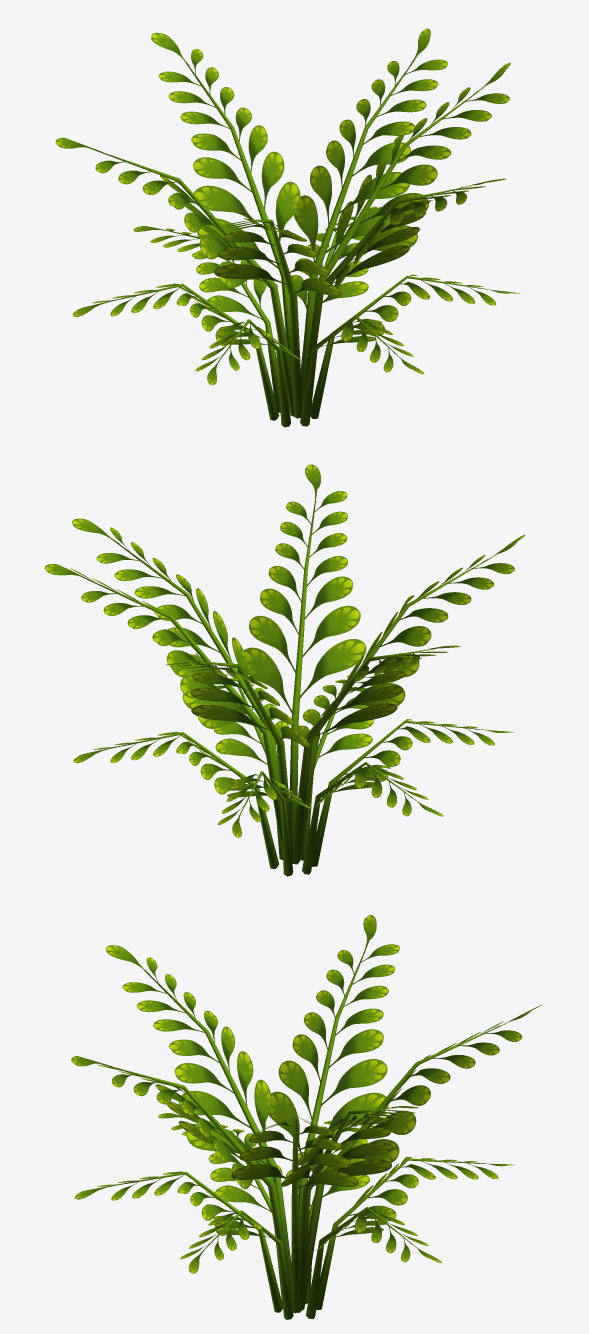
File: Bush_02.FBX
3 views of the same model, one above another, from view 1: azimuth 30°, elevation 25°; view 2: azimuth 150°, elevation 25°; view 3: azimuth 270°, elevation 25° (orthographic).
Parts seen in each view (by area): view 1: Bush_02; view 2: Bush_02; view 3: Bush_02.
Part boxes in pixels (bbox=[...]): Bush_02: bbox=[55, 28, 519, 427]; Bush_02: bbox=[44, 464, 525, 876]; Bush_02: bbox=[71, 915, 541, 1319].
Bounding box in the file's own units: 48.13 × 28.84 × 48.08.
Materials: 1 (1 with a texture image).
